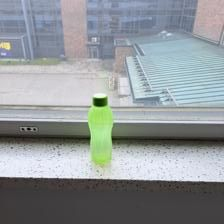bottle: (85, 93, 117, 163)
